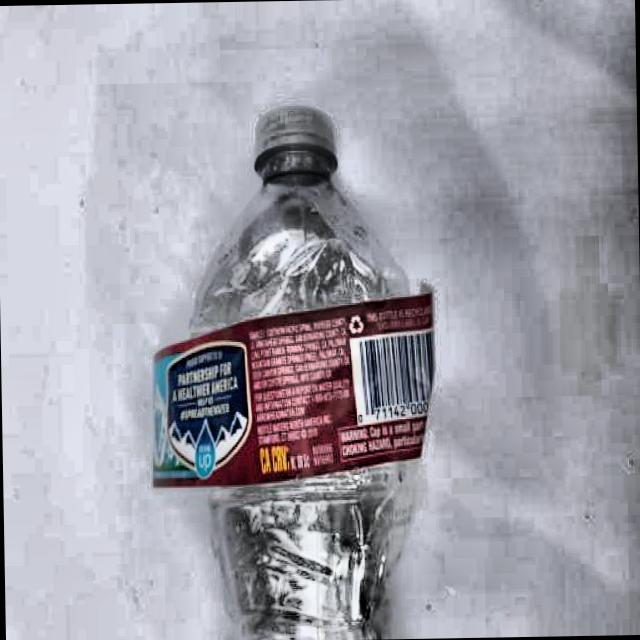plastic bottle: (153, 106, 433, 640)
